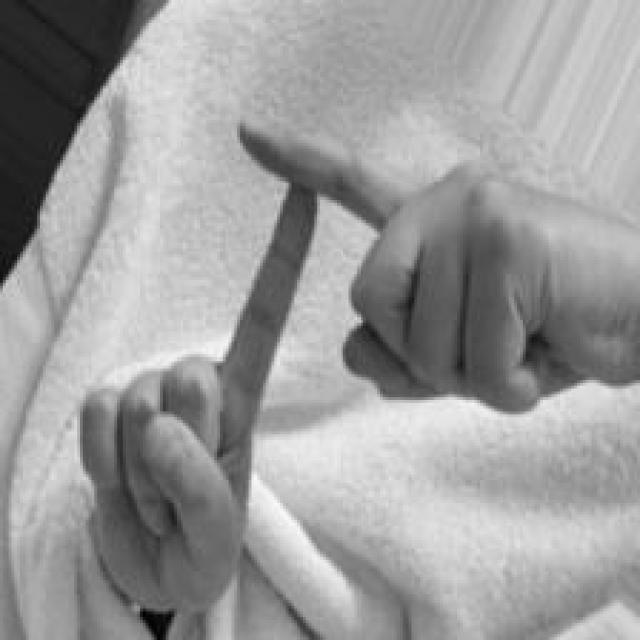T: (80, 114, 638, 616)
